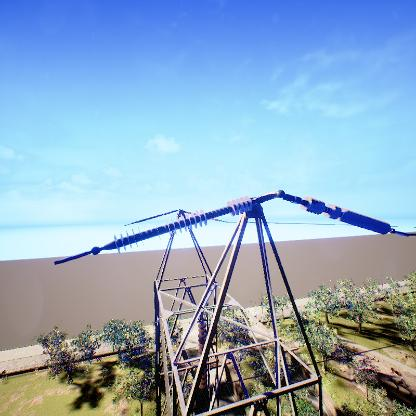insulator: (113, 195, 254, 255), (299, 196, 393, 236)
